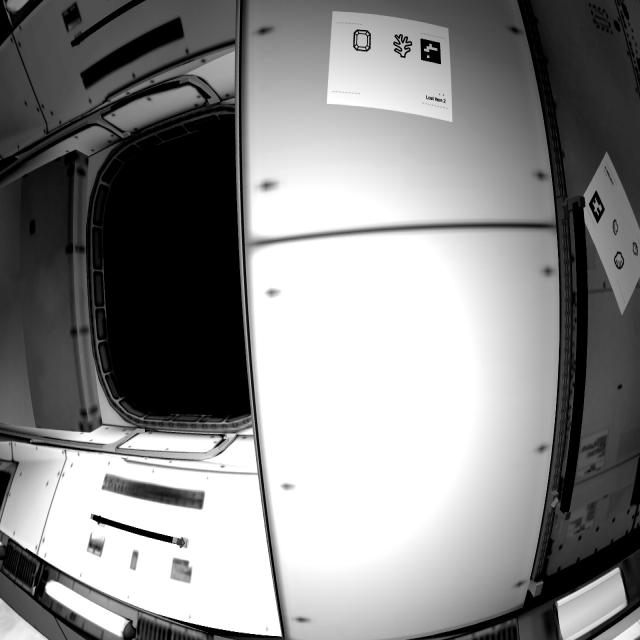coral: (392, 30, 417, 61)
emerald: (350, 25, 378, 60)
shell: (613, 249, 628, 274), (609, 219, 625, 238), (630, 239, 640, 260)
